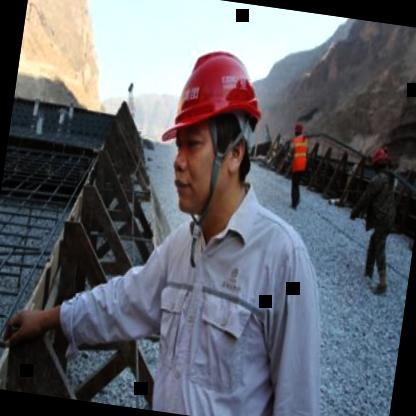helmet: (147, 24, 278, 234), (366, 142, 391, 174)
